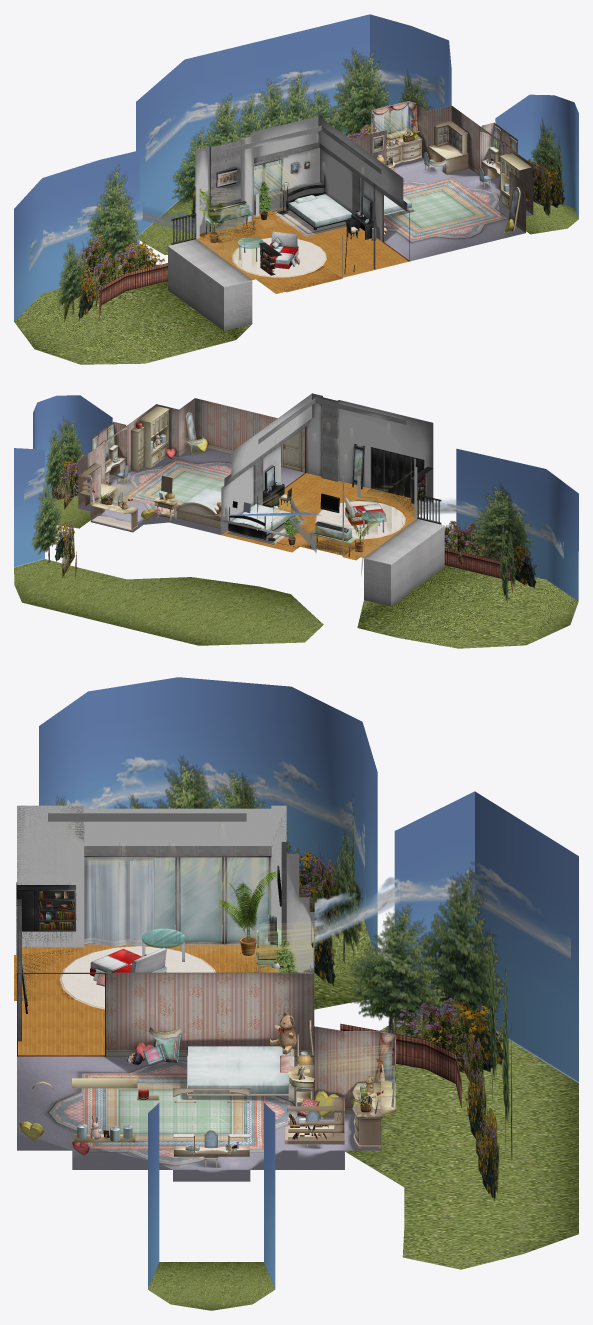
File: two_bedroom.glb
3 renders of one model, top to bottom at view 1: azimuth 30°, elevation 25°; view 2: azimuth 150°, elevation 25°; view 3: azimuth 270°, elevation 25°, orthographic. The views are drawn at different scales.
Parts seen in each view (by area): view 1: FrontSide_40, FrontSide_64, FrontSide_24, FrontSide_29, FrontSide_36, FrontSide_61, FrontSide_44, FrontSide_49, FrontSide_45, FrontSide_8, FrontSide_65, FrontSide_35 (+19 smaller); view 2: FrontSide_24, FrontSide_40, FrontSide_29, FrontSide_64, FrontSide_65, FrontSide_36, FrontSide_44, FrontSide_61, FrontSide_8, FrontSide_45, FrontSide_35, FrontSide_12 (+27 smaller); view 3: FrontSide_40, FrontSide_24, FrontSide_64, FrontSide_65, FrontSide_29, FrontSide_8, FrontSide_61, FrontSide_35, FrontSide_36, FrontSide_0, FrontSide_31, FrontSide_18 (+22 smaller).
Boxes of the visible parts, left/top/right/bottom form: FrontSide_40: left=14, top=14, right=578, bottom=321; FrontSide_64: left=57, top=47, right=565, bottom=322; FrontSide_24: left=14, top=185, right=578, bottom=364; FrontSide_29: left=195, top=116, right=403, bottom=277; FrontSide_36: left=197, top=207, right=409, bottom=293; FrontSide_61: left=382, top=177, right=507, bottom=261; FrontSide_44: left=168, top=239, right=252, bottom=330; FrontSide_49: left=195, top=116, right=406, bottom=239; FrontSide_45: left=209, top=140, right=407, bottom=269; FrontSide_8: left=384, top=157, right=532, bottom=260; FrontSide_65: left=350, top=103, right=533, bottom=227; FrontSide_35: left=384, top=157, right=532, bottom=261; FrontSide_24: left=14, top=496, right=578, bottom=648; FrontSide_40: left=14, top=395, right=578, bottom=601; FrontSide_29: left=221, top=393, right=433, bottom=534; FrontSide_64: left=31, top=416, right=536, bottom=602; FrontSide_65: left=78, top=398, right=304, bottom=517; FrontSide_36: left=220, top=473, right=425, bottom=560; FrontSide_44: left=364, top=519, right=444, bottom=606; FrontSide_61: left=122, top=427, right=306, bottom=516; FrontSide_8: left=78, top=449, right=304, bottom=534; FrontSide_45: left=222, top=397, right=343, bottom=556; FrontSide_35: left=79, top=449, right=304, bottom=534; FrontSide_12: left=306, top=393, right=433, bottom=552; FrontSide_40: left=39, top=677, right=578, bottom=1289; FrontSide_24: left=148, top=874, right=578, bottom=1310; FrontSide_64: left=56, top=756, right=512, bottom=1200; FrontSide_65: left=106, top=973, right=381, bottom=1107; FrontSide_29: left=16, top=805, right=314, bottom=972; FrontSide_8: left=17, top=1056, right=381, bottom=1181; FrontSide_61: left=17, top=973, right=298, bottom=1165; FrontSide_35: left=17, top=1056, right=381, bottom=1181; FrontSide_36: left=14, top=944, right=281, bottom=1055; FrontSide_0: left=84, top=856, right=395, bottom=1080; FrontSide_31: left=154, top=857, right=268, bottom=941; FrontSide_18: left=105, top=973, right=382, bottom=1114.
Size of what is drawn, in the model's own units: 34.16 by 8.11 by 18.26.
73 materials, 73 textured.
